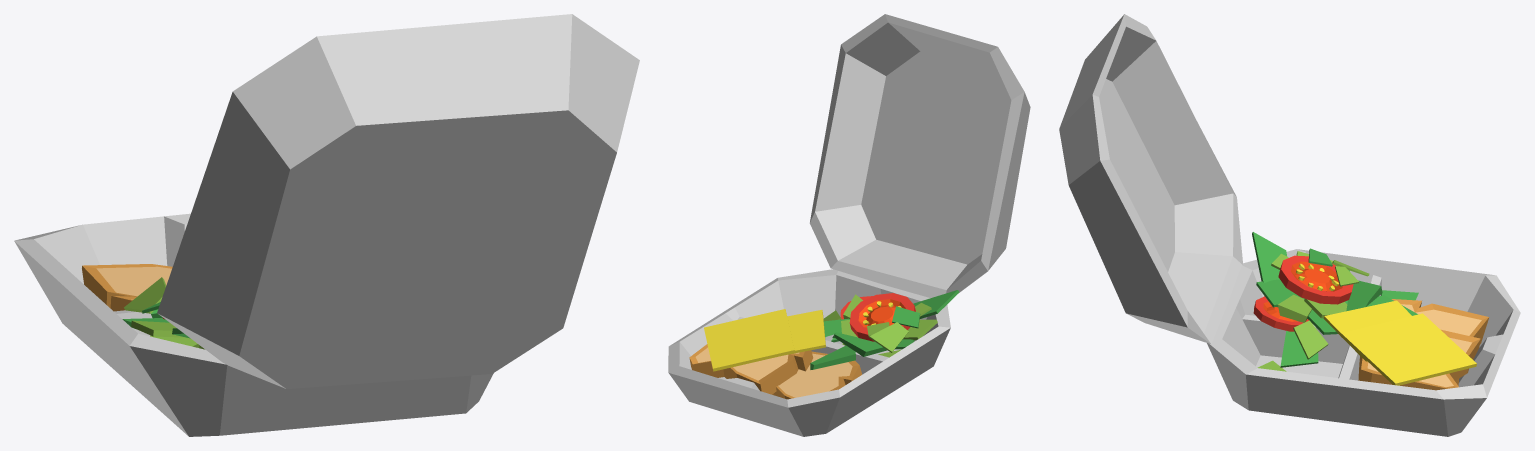
The model's file is fyre-festival-meal-by-tipatat-chennavasin-5DdyUv1lsLS.glb.
3 views of the same model, side by side, from view 1: azimuth 30°, elevation 25°; view 2: azimuth 150°, elevation 25°; view 3: azimuth 270°, elevation 25° (orthographic). The views are drawn at different scales.
Parts seen in each view (by area): view 1: group1472431247, group1638459739, group367881535; view 2: group1472431247, group1318984881, group1298366004, group1638459739, group1758720616, group1788740791, group367881535, group1956171923, group1045029593, group545457242, group1880326366, group305856082; view 3: group1472431247, group1318984881, group1758720616, group1638459739, group1298366004, group1788740791, group545457242, group1454843256, group1395756515, group1193390528, group1956171923, group1401874966 (+2 smaller).
Part boxes in pixels (x1=…): group1472431247: x1=14, y1=14, x2=639, y2=436; group1638459739: x1=82, y1=264, x2=172, y2=311; group367881535: x1=124, y1=277, x2=166, y2=313; group1472431247: x1=668, y1=14, x2=1030, y2=436; group1318984881: x1=704, y1=309, x2=794, y2=371; group1298366004: x1=689, y1=344, x2=813, y2=394; group1638459739: x1=772, y1=351, x2=861, y2=399; group1758720616: x1=849, y1=293, x2=915, y2=341; group1788740791: x1=787, y1=310, x2=825, y2=354; group367881535: x1=869, y1=322, x2=908, y2=352; group1956171923: x1=832, y1=332, x2=887, y2=356; group1045029593: x1=810, y1=345, x2=855, y2=369; group545457242: x1=913, y1=290, x2=959, y2=318; group1880326366: x1=892, y1=306, x2=920, y2=328; group305856082: x1=903, y1=319, x2=937, y2=340; group1472431247: x1=1059, y1=14, x2=1520, y2=436; group1318984881: x1=1341, y1=313, x2=1476, y2=385; group1758720616: x1=1278, y1=255, x2=1353, y2=304; group1638459739: x1=1391, y1=299, x2=1488, y2=385; group1298366004: x1=1358, y1=329, x2=1480, y2=390; group1788740791: x1=1323, y1=300, x2=1411, y2=361; group545457242: x1=1252, y1=232, x2=1287, y2=282; group1454843256: x1=1253, y1=296, x2=1308, y2=331; group1395756515: x1=1280, y1=331, x2=1318, y2=367; group1193390528: x1=1293, y1=320, x2=1328, y2=359; group1956171923: x1=1346, y1=280, x2=1382, y2=311; group1401874966: x1=1278, y1=294, x2=1311, y2=322.
Size of the model in its own units: 0.909 by 1.09 by 1.39.
